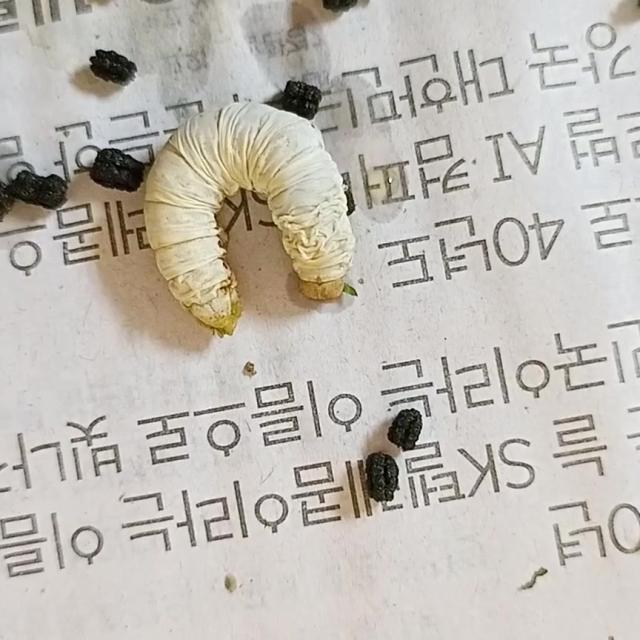Grasserie: (125, 92, 382, 340)
